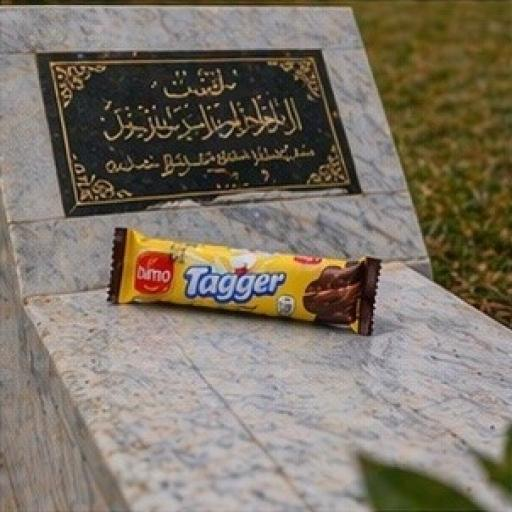tagger: (78, 167, 397, 392)
